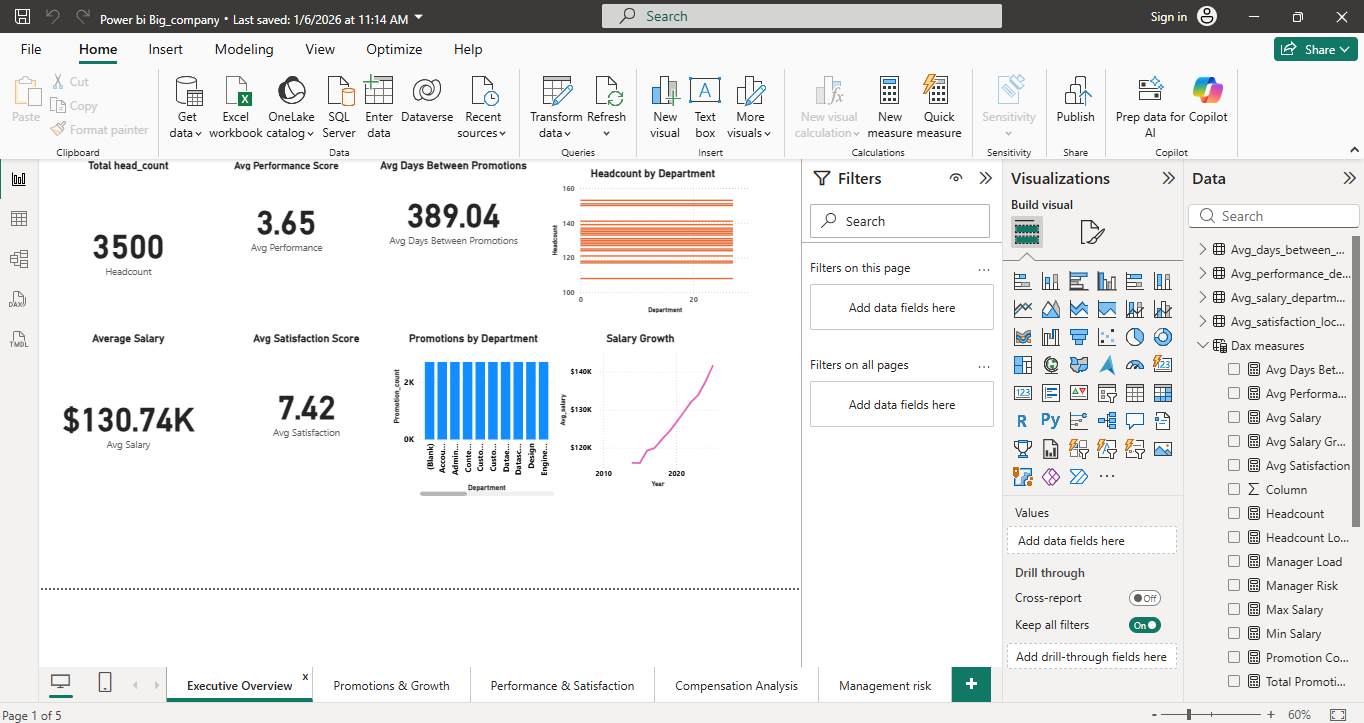

The dashboard page shown, as its layout file describes it:
{"tool":"powerbi","page":{"name":"Executive Overview","canvas":[1280,720],"ordinal":0},"visuals":[{"type":"card","title":"Total head_count","fields":{"Values":["Dax measures.Headcount"]},"box":[10,0,280,280],"z":0},{"type":"card","title":"Average Salary","fields":{"Values":["Dax measures.Avg Salary"]},"box":[10,290,280,280],"z":1000},{"type":"card","title":"Avg Performance Score","fields":{"Values":["Dax measures.Avg Performance"]},"box":[275.5,0,280.5,201.6],"z":2000},{"type":"card","title":"Avg Satisfaction Score","fields":{"Values":["Dax measures.Avg Satisfaction"]},"box":[309.1,290.6,280.5,240.2],"z":3000},{"type":"card","title":"Avg Days Between Promotions","fields":{"Values":["Dax measures.Avg Days Between Promotions"]},"box":[556,0,280.5,176.4],"z":4000},{"type":"clusteredBarChart","title":"Headcount by Department","fields":{"Category":["Headcount_department.Headcount"],"Y":["CountNonNull(Avg_salary_department.Department)"]},"box":[856.7,13.4,349.4,250.3],"z":5000},{"type":"columnChart","title":"Promotions by Department","fields":{"Category":["Promotions_department.Department"],"Y":["Dax measures.Promotion Count"]},"box":[589.6,290.6,280.5,280.5],"z":6000},{"type":"lineChart","title":"Salary Growth","fields":{"Category":["Salary_growth.Year"],"Y":["Dax measures.Avg Salary Growth"]},"box":[870.1,290.6,280.5,265.4],"z":7000}]}

Visuals, with their boxes on the page's 1280x720 design canvas (x1, y1, x2, y2). These are canvas units, not pixel positions in the 1364x723 screenshot, which may show the page scaled, cropped or inside an application window:
"Total head_count" card: box=[10, 0, 290, 280]
"Average Salary" card: box=[10, 290, 290, 570]
"Avg Performance Score" card: box=[276, 0, 556, 202]
"Avg Satisfaction Score" card: box=[309, 291, 590, 531]
"Avg Days Between Promotions" card: box=[556, 0, 836, 176]
"Headcount by Department" clusteredBarChart: box=[857, 13, 1206, 264]
"Promotions by Department" columnChart: box=[590, 291, 870, 571]
"Salary Growth" lineChart: box=[870, 291, 1151, 556]
